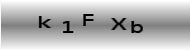1: (60, 19, 74, 35)
F: (81, 12, 94, 28)
X: (109, 16, 126, 32)
b: (129, 19, 144, 35)
k: (36, 14, 52, 30)
